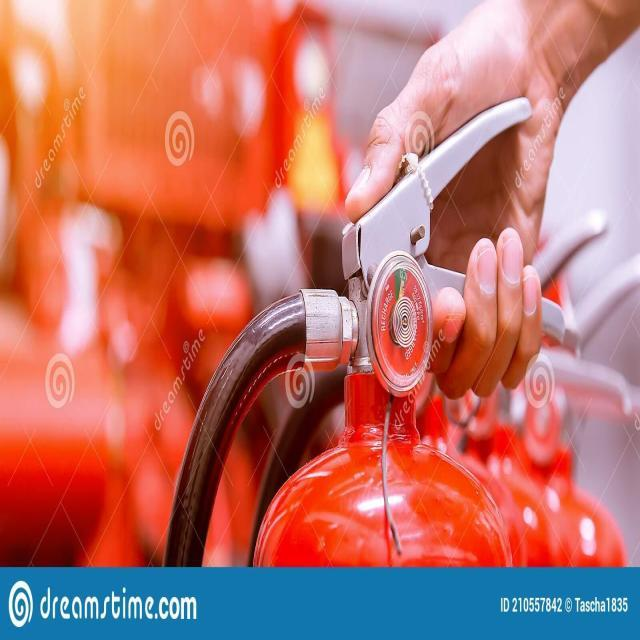fire_extinguisher: (152, 88, 574, 570)
